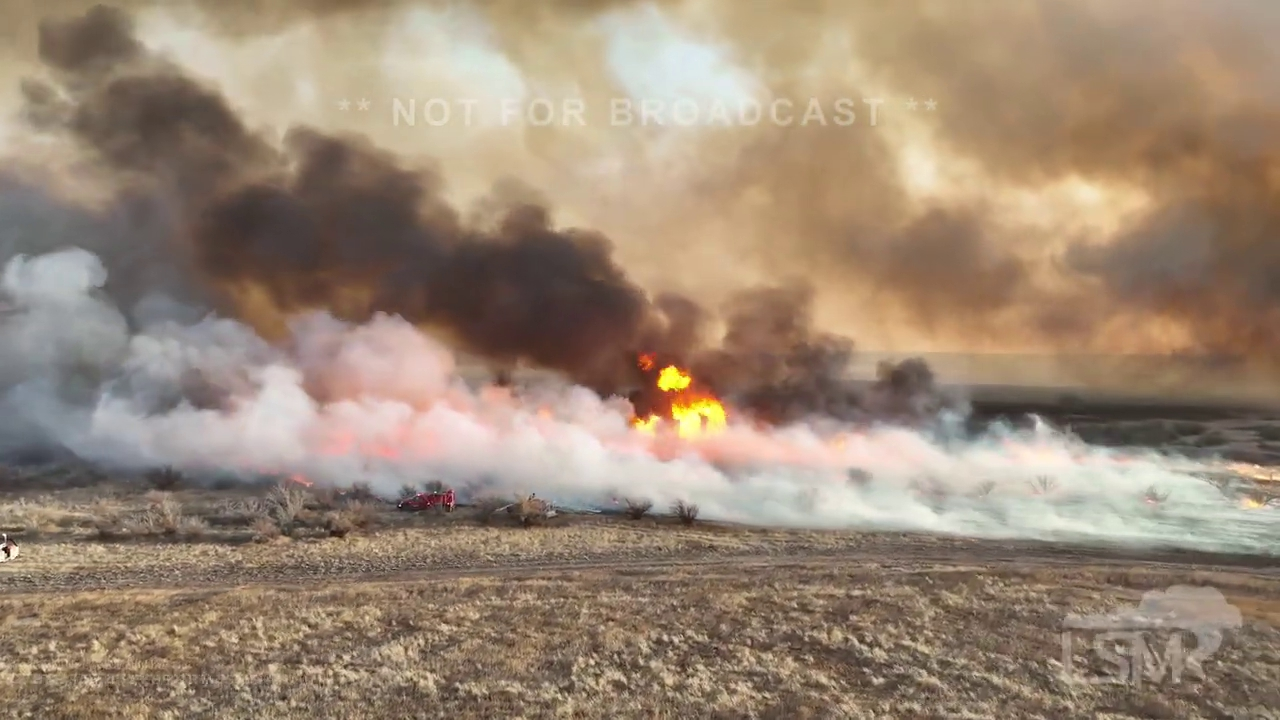forest_fire: (634, 365, 727, 438)
